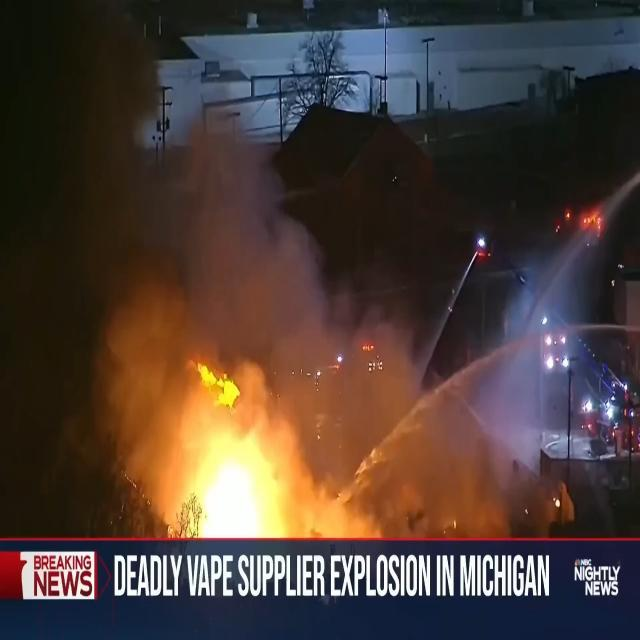fire: (184, 436, 295, 543), (180, 352, 283, 432), (144, 408, 184, 524)
